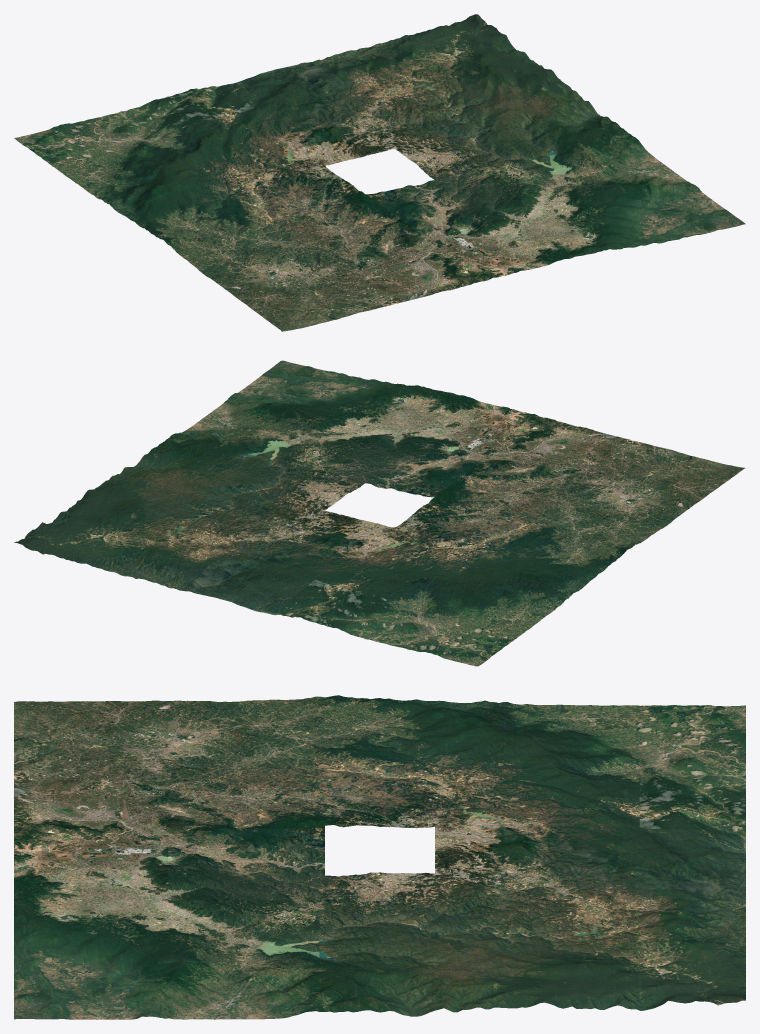
The model's file is terrain_backdrop_dalat_60km.glb.
3 views of the same model, one above another, from view 1: azimuth 30°, elevation 25°; view 2: azimuth 150°, elevation 25°; view 3: azimuth 270°, elevation 25° (orthographic). The views are drawn at different scales.
Visible parts, largest first — view 1: Dalat_Highland_Backdrop_60km_SW, Dalat_Highland_Backdrop_60km_SE, Dalat_Highland_Backdrop_60km_NW, Dalat_Highland_Backdrop_60km_NE; view 2: Dalat_Highland_Backdrop_60km_NW, Dalat_Highland_Backdrop_60km_NE, Dalat_Highland_Backdrop_60km_SW, Dalat_Highland_Backdrop_60km_SE; view 3: Dalat_Highland_Backdrop_60km_SE, Dalat_Highland_Backdrop_60km_NE, Dalat_Highland_Backdrop_60km_SW, Dalat_Highland_Backdrop_60km_NW.
Boxes of the visible parts, x1,y1,x2,y2 form: Dalat_Highland_Backdrop_60km_SW: [148, 180, 513, 331]; Dalat_Highland_Backdrop_60km_SE: [400, 120, 745, 272]; Dalat_Highland_Backdrop_60km_NW: [14, 79, 359, 230]; Dalat_Highland_Backdrop_60km_NE: [247, 14, 611, 162]; Dalat_Highland_Backdrop_60km_NW: [246, 513, 611, 666]; Dalat_Highland_Backdrop_60km_NE: [14, 452, 359, 607]; Dalat_Highland_Backdrop_60km_SW: [400, 409, 745, 562]; Dalat_Highland_Backdrop_60km_SE: [148, 360, 513, 494]; Dalat_Highland_Backdrop_60km_SE: [14, 851, 379, 1019]; Dalat_Highland_Backdrop_60km_NE: [380, 843, 745, 1016]; Dalat_Highland_Backdrop_60km_SW: [14, 695, 379, 855]; Dalat_Highland_Backdrop_60km_NW: [380, 698, 745, 856].
Size of the model in its own units: 60000 by 2137 by 60000.
Materials: 4 (4 with a texture image).
